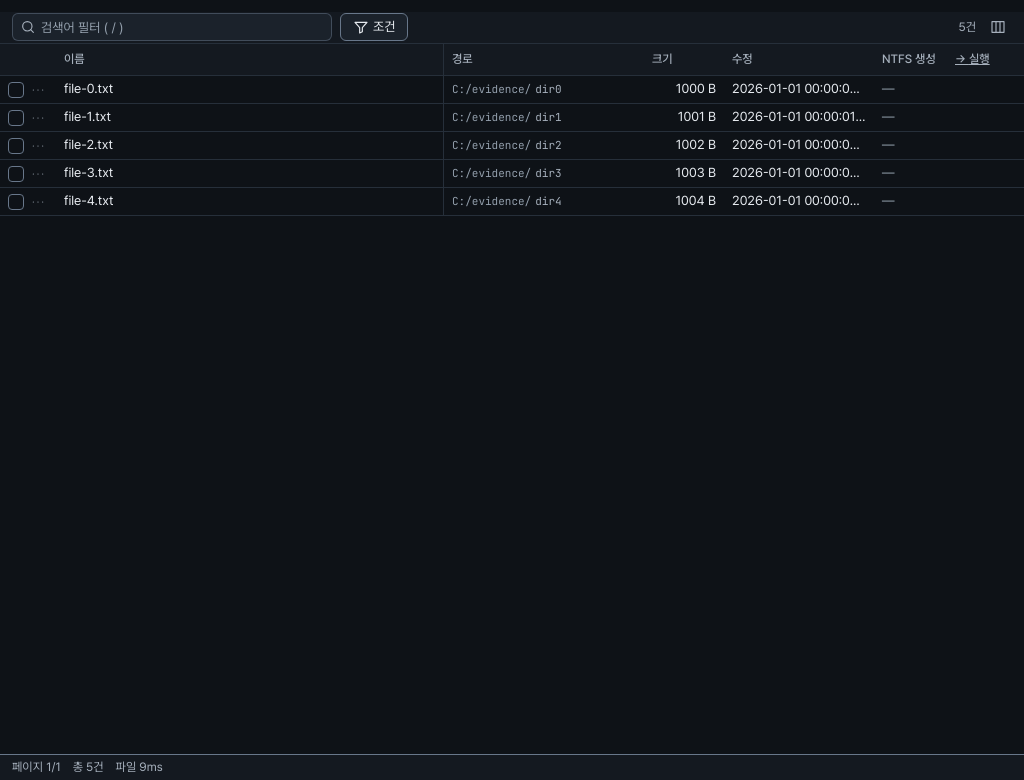
Test case: DataGrid batch commands › 추출 shows the manifest summary with a ZIP download button
Press Space in the row that starts with "file-0.txt", box [0,76,1023,104]
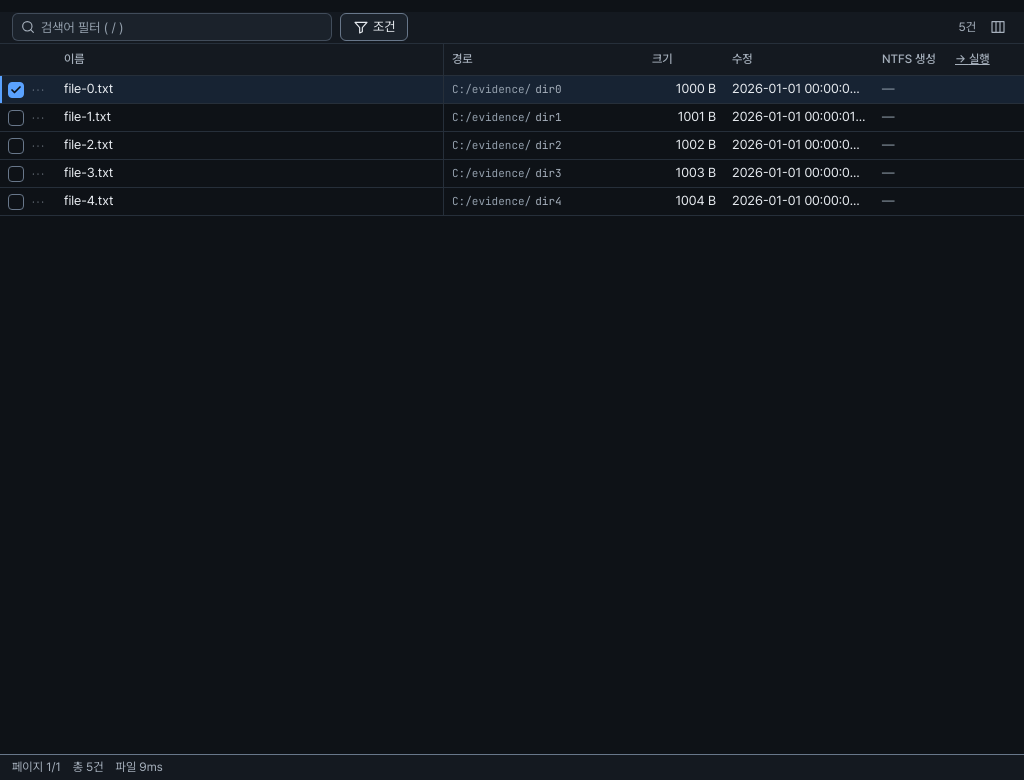
Press ArrowDown in the row that starts with "file-0.txt", box [0,76,1023,104]
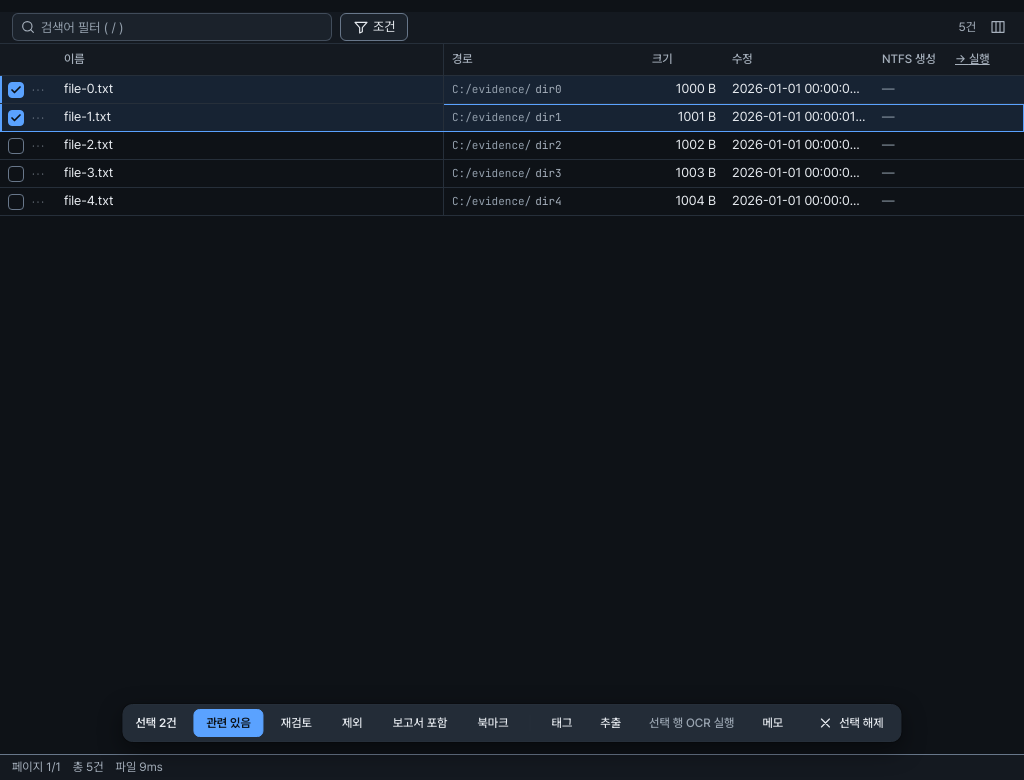
Click the button "추출": (611, 723) [587,709,634,737]
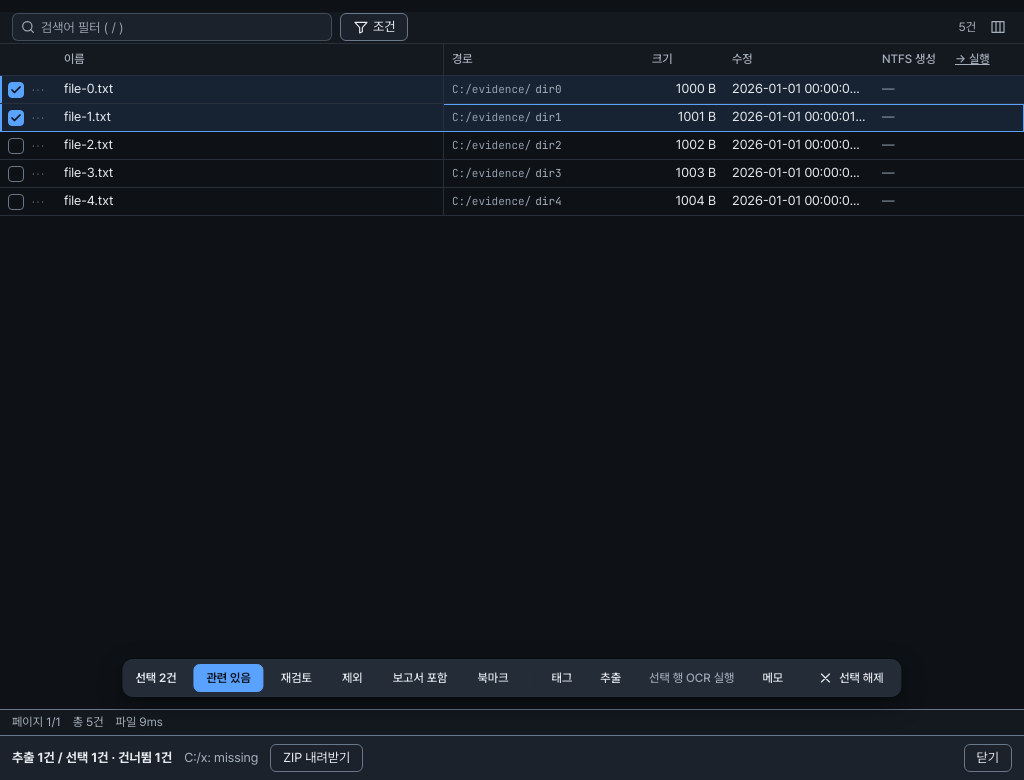
Result: the message named "추출 결과" shows "추출 1건 / 선택 1건" at [0,735,1023,779]
Result: the message named "추출 결과" shows "건너뜀 1건" at [108,750,172,765]
Result: the button "ZIP 내려받기" is shown at [270,744,363,772]
